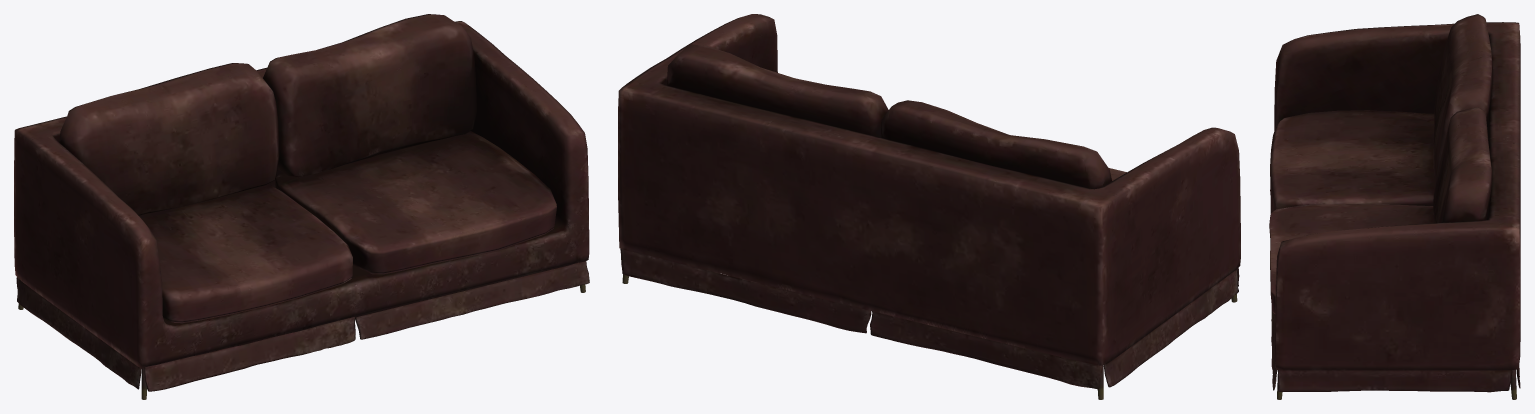
File: sofa_old.glb
The picture shows the model from 3 angles, left to right: view 1: azimuth 30°, elevation 25°; view 2: azimuth 150°, elevation 25°; view 3: azimuth 270°, elevation 25°; orthographic projection. The views are drawn at different scales.
Parts seen in each view (by area): view 1: couch02_lo_lambert1_0; view 2: couch02_lo_lambert1_0; view 3: couch02_lo_lambert1_0.
Part boxes in pixels (x1,y1,x2,y2): couch02_lo_lambert1_0: [14, 14, 589, 399]; couch02_lo_lambert1_0: [618, 14, 1240, 399]; couch02_lo_lambert1_0: [1269, 14, 1520, 399].
Size of the model in its own units: 2 by 0.8922 by 1.01.
Materials: 1 (1 with a texture image).
